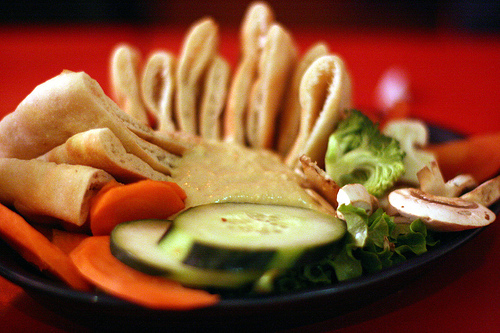cucumber: (155, 200, 349, 274), (112, 219, 259, 292)
